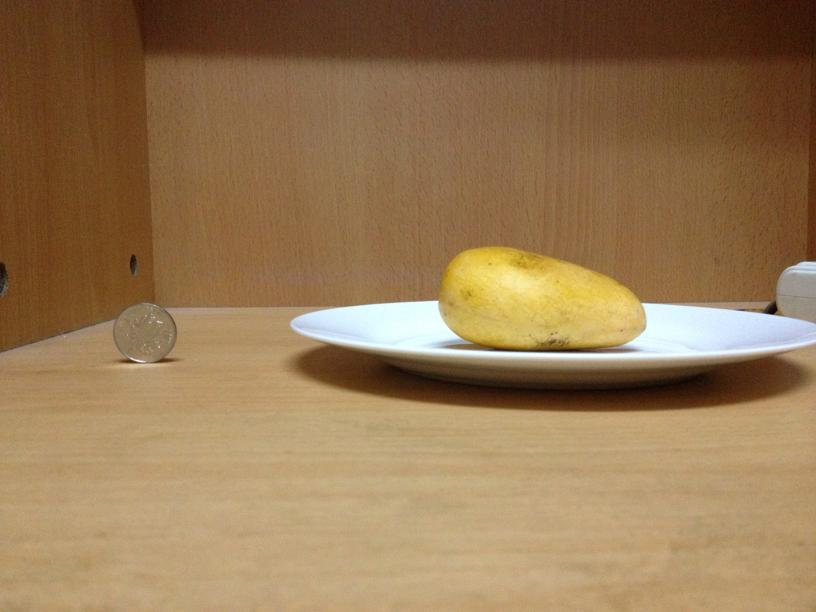coin: (114, 301, 175, 363)
mango: (436, 244, 646, 350)
